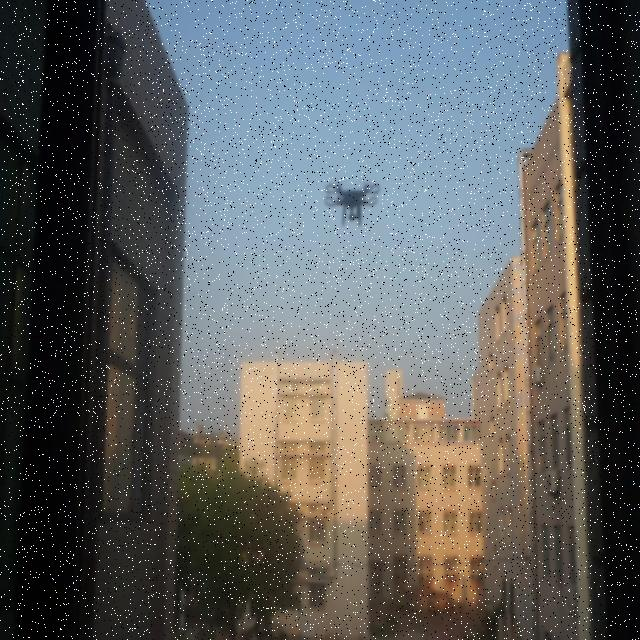UAV: (324, 180, 380, 228)
